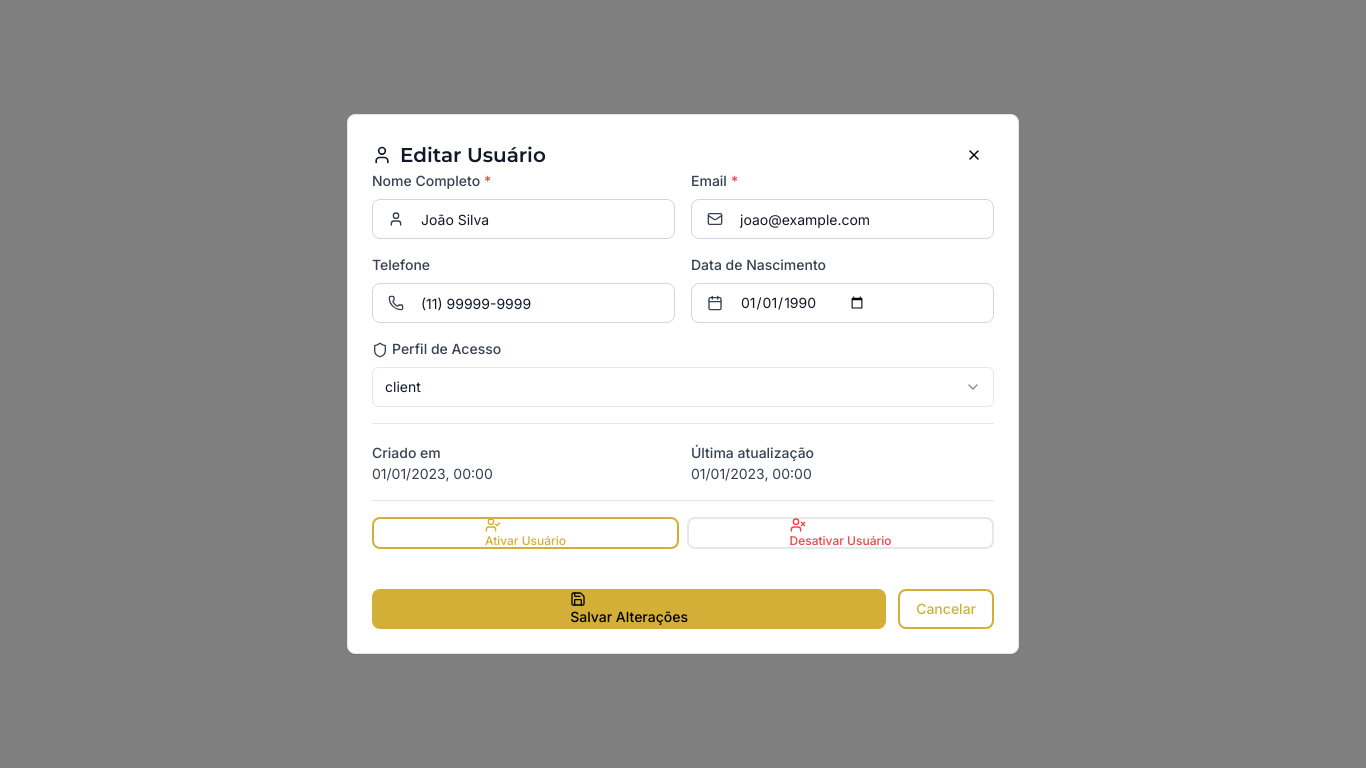
Test case: UserEditModal › deve validar campos obrigatórios
// Limpar nome (campo obrigatório)
Step 1. Clear the field showing "João Silva" → (524, 219), box [372, 199, 675, 239]
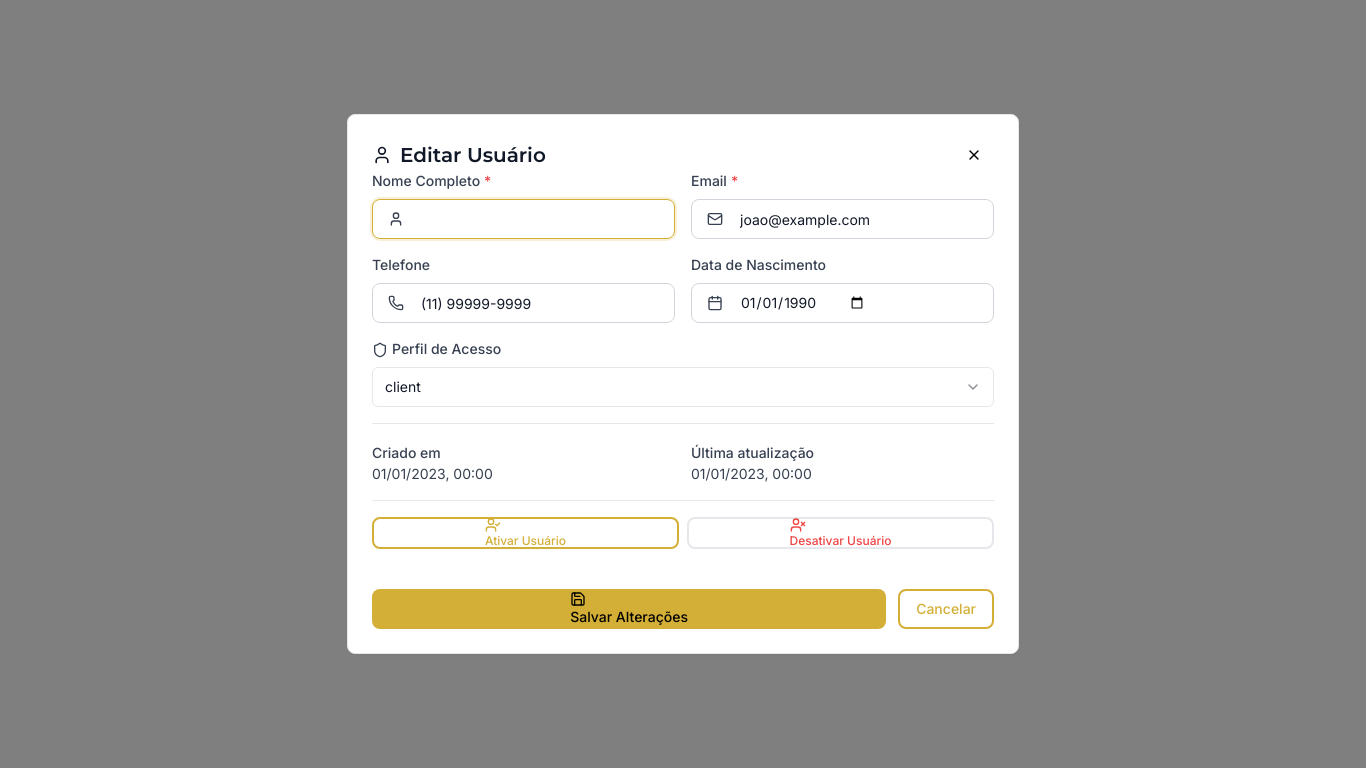
// Tentar salvar
Step 2. Click the button "Salvar Alterações" → (629, 609), box [372, 589, 886, 629]
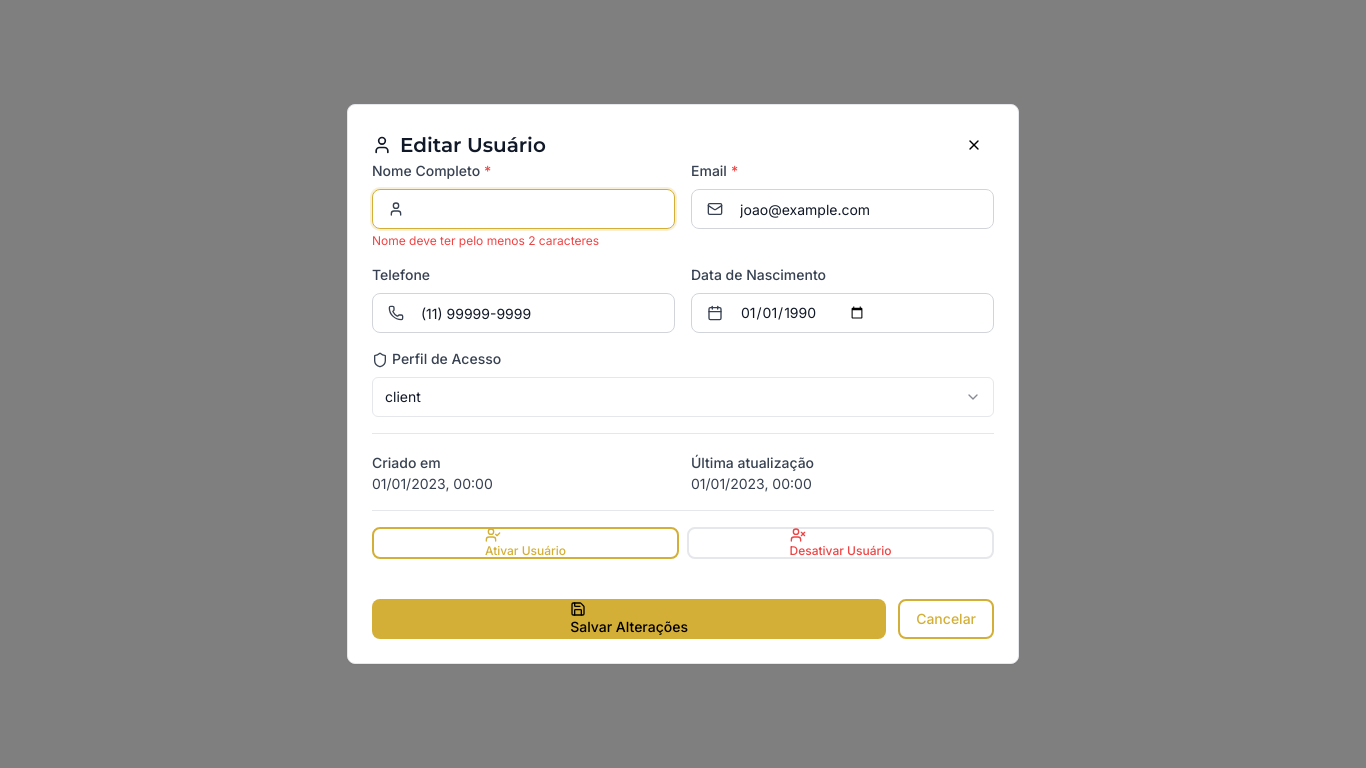
Expected: the text "Nome deve ter pelo menos 2 caracteres" is shown, [372, 233, 599, 248]
